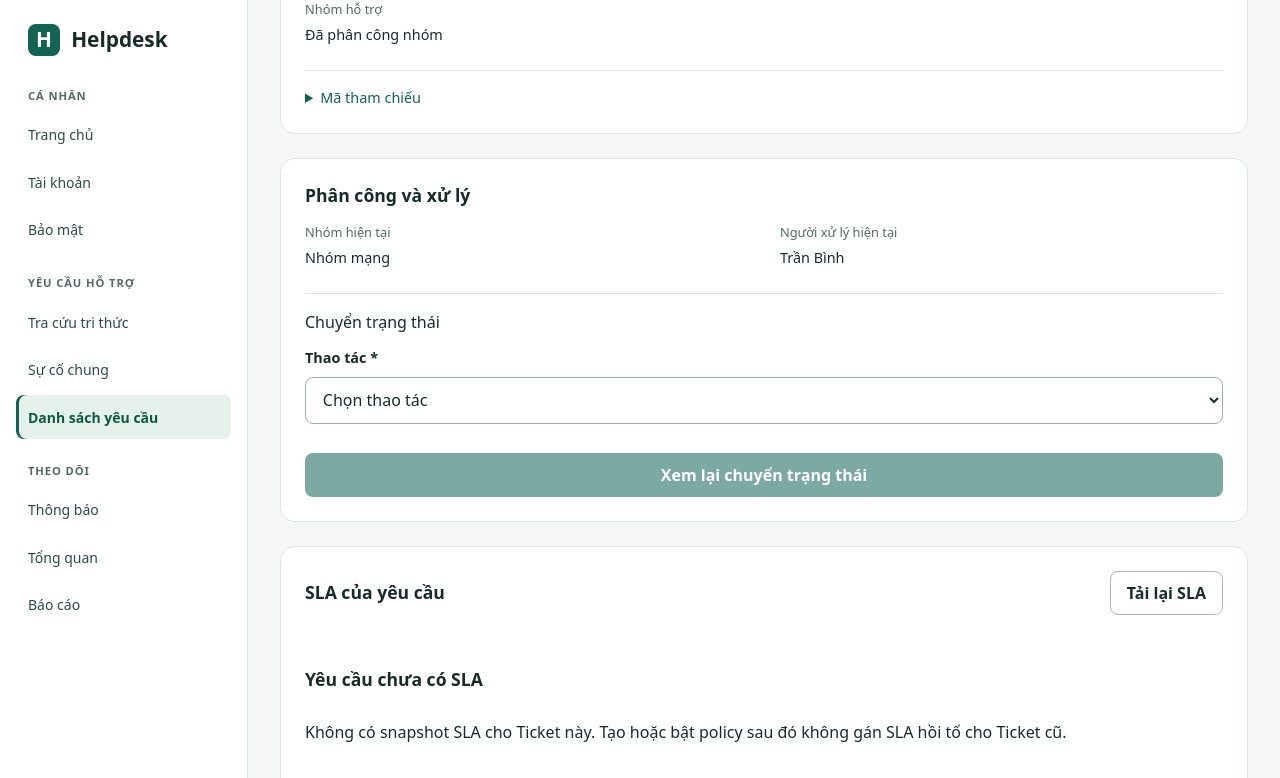
Test: Ticket workflow from server capabilities › supports requester/global action 5 only when returned by server and sends no summary
(page scrolled)
Select "Xác nhận và đóng" in the dropdown labelled "Thao tác". click: (764, 400)
box: x1=305 y1=377 x2=1223 y2=424
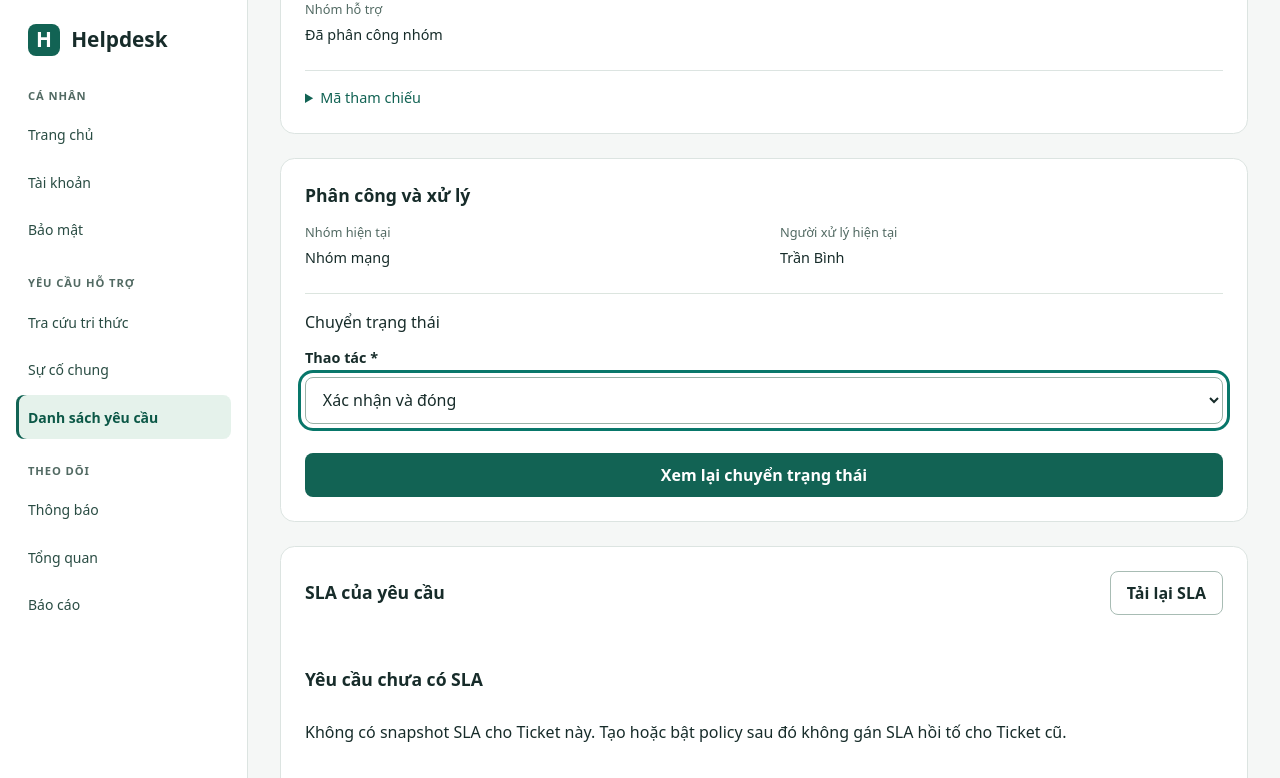
Click the button "Xem lại chuyển trạng thái". click: click(764, 475)
box: x1=305 y1=453 x2=1223 y2=497
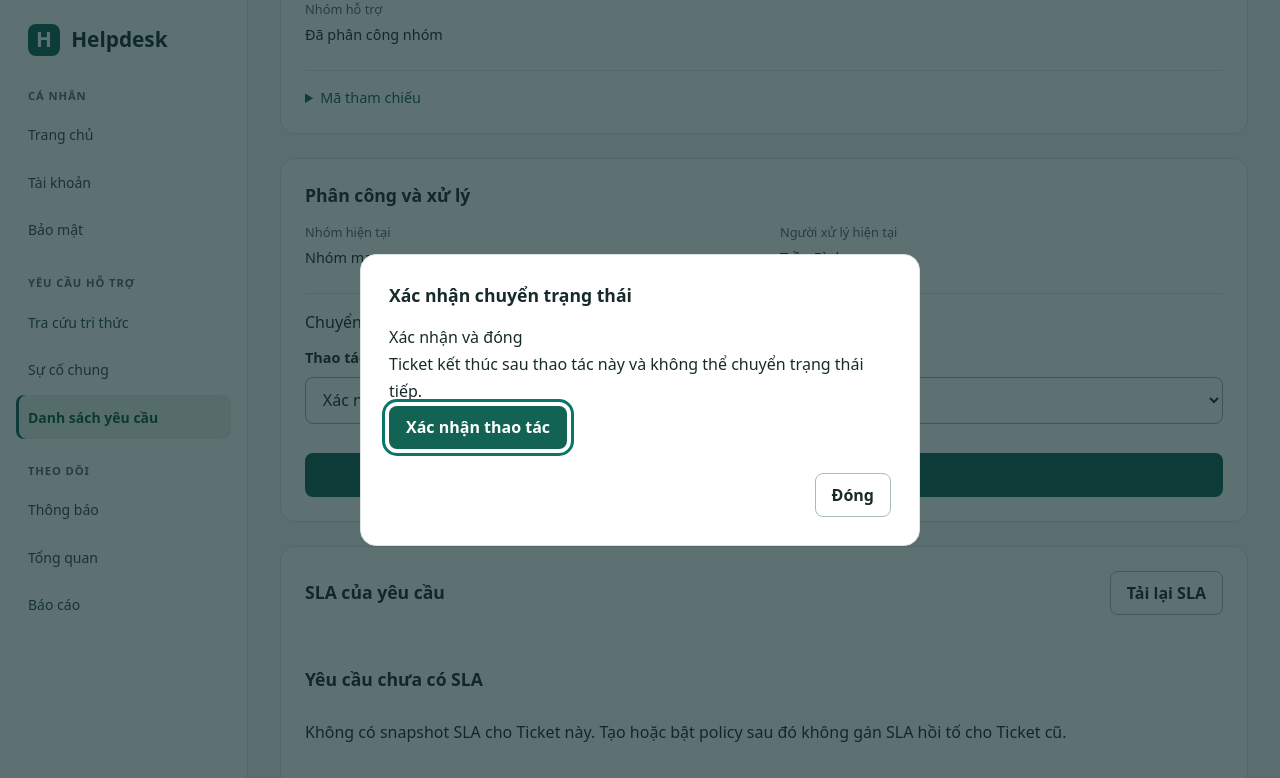
Click the button "Xác nhận thao tác". click: click(478, 427)
box: x1=389 y1=406 x2=567 y2=449
(page scrolled)
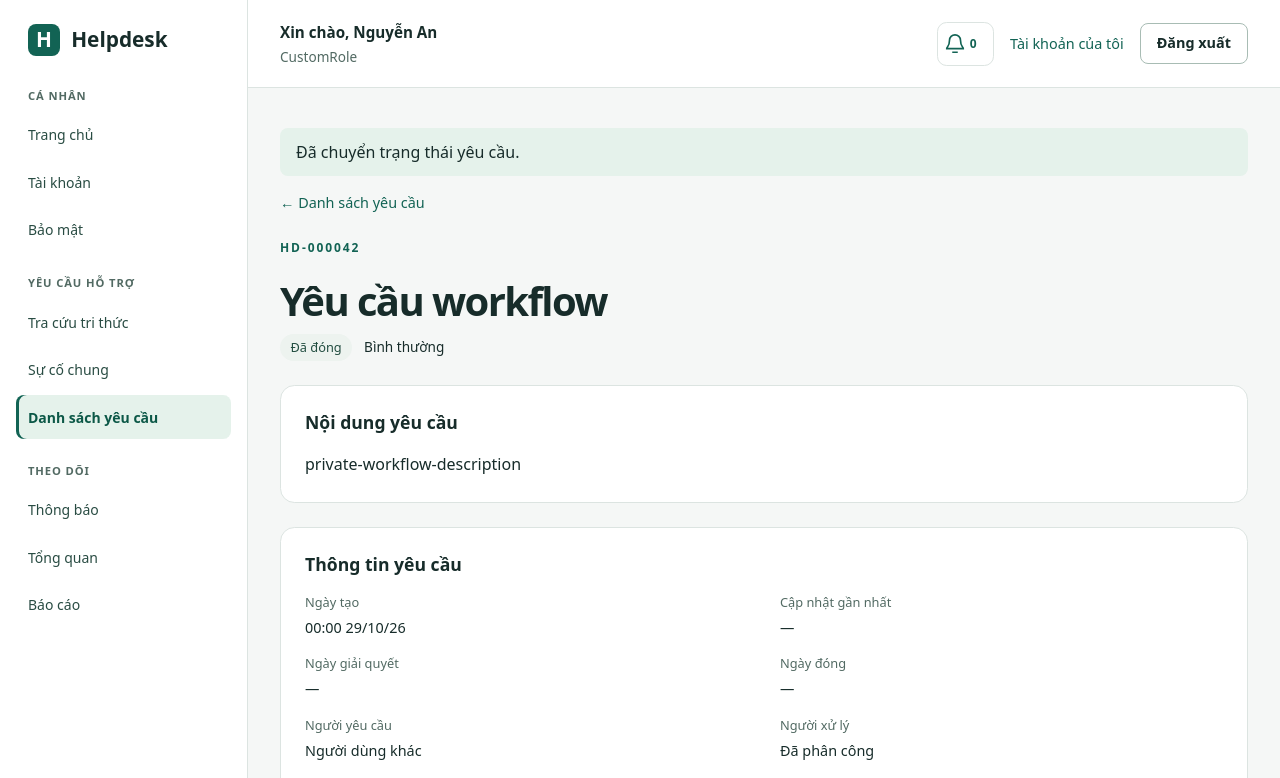
Expected: the text "Đã chuyển trạng thái yêu cầu." is shown, x1=280 y1=128 x2=1248 y2=176
